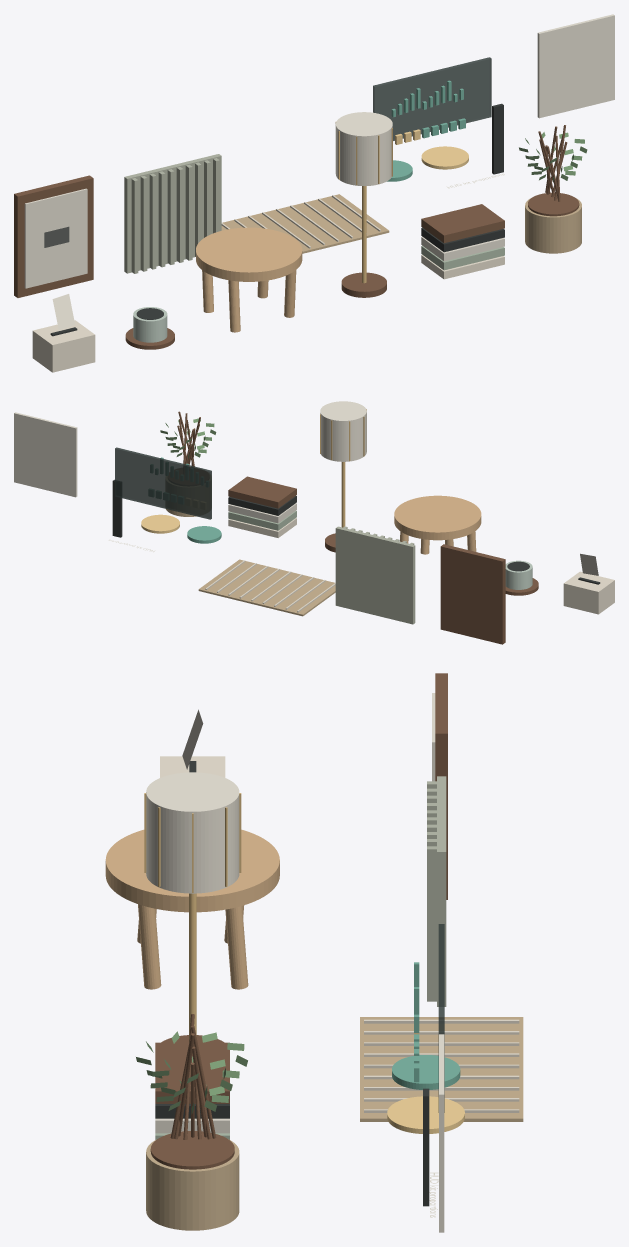
File: CounselCueRoomAssetPack.glb
3 views of the same model, one above another, from view 1: azimuth 30°, elevation 25°; view 2: azimuth 150°, elevation 25°; view 3: azimuth 270°, elevation 25° (orthographic). The views are drawn at different scales.
Visible parts, largest first — view 1: CC_HUDKit_PaperTranscript, CC_HUDKit_GlassPanel, CC_HanjiArtwork_Mat, CC_RoundOakTable_Top, CC_WovenRug_Base, CC_AcousticRibPanel_Back, CC_FloorLamp_HanjiShade, CC_HanjiArtwork_Frame, CC_TissueBox_Linen, CC_BasketPlant_WovenPot, CC_BookStack_Book_05, CC_BasketPlant_Soil (+22 smaller); view 2: CC_AcousticRibPanel_Back, CC_HanjiArtwork_Frame, CC_HUDKit_GlassPanel, CC_HUDKit_PaperTranscript, CC_WovenRug_Base, CC_RoundOakTable_Top, CC_FloorLamp_HanjiShade, CC_TissueBox_Linen, CC_BookStack_Book_05, CC_HUDKit_TutorialRing, CC_CeladonTeaCup_Bowl, CC_BookStack_Book_02 (+5 smaller); view 3: CC_FloorLamp_HanjiShade, CC_WovenRug_Base, CC_RoundOakTable_Top, CC_BasketPlant_WovenPot, CC_BookStack_Book_05, CC_BasketPlant_Soil, CC_HUDKit_TutorialRing, CC_AcousticRibPanel_Back, CC_HUDKit_MicButton, CC_HanjiArtwork_Frame, CC_AcousticRibPanel_Rib.009, CC_RoundOakTable_Leg.001 (+6 smaller).
Boxes of the visible parts, x1=… form: CC_HUDKit_PaperTranscript: x1=537, y1=14, x2=614, y2=118; CC_HUDKit_GlassPanel: x1=373, y1=57, x2=491, y2=140; CC_HanjiArtwork_Mat: x1=24, y1=188, x2=87, y2=288; CC_RoundOakTable_Top: x1=196, y1=227, x2=302, y2=281; CC_WovenRug_Base: x1=221, y1=194, x2=389, y2=253; CC_AcousticRibPanel_Back: x1=124, y1=154, x2=221, y2=273; CC_FloorLamp_HanjiShade: x1=335, y1=112, x2=392, y2=186; CC_HanjiArtwork_Frame: x1=14, y1=175, x2=93, y2=297; CC_TissueBox_Linen: x1=32, y1=320, x2=95, y2=372; CC_BasketPlant_WovenPot: x1=525, y1=198, x2=581, y2=253; CC_BookStack_Book_05: x1=421, y1=204, x2=504, y2=243; CC_BasketPlant_Soil: x1=528, y1=192, x2=579, y2=216; CC_AcousticRibPanel_Back: x1=335, y1=526, x2=415, y2=624; CC_HanjiArtwork_Frame: x1=440, y1=544, x2=505, y2=644; CC_HUDKit_GlassPanel: x1=115, y1=447, x2=211, y2=519; CC_HUDKit_PaperTranscript: x1=14, y1=412, x2=77, y2=497; CC_WovenRug_Base: x1=198, y1=559, x2=335, y2=616; CC_RoundOakTable_Top: x1=394, y1=495, x2=481, y2=540; CC_FloorLamp_HanjiShade: x1=320, y1=401, x2=366, y2=461; CC_TissueBox_Linen: x1=563, y1=571, x2=614, y2=614; CC_BookStack_Book_05: x1=228, y1=476, x2=296, y2=508; CC_HUDKit_TutorialRing: x1=141, y1=514, x2=179, y2=533; CC_CeladonTeaCup_Bowl: x1=505, y1=560, x2=532, y2=589; CC_BookStack_Book_02: x1=228, y1=510, x2=296, y2=530; CC_FloorLamp_HanjiShade: x1=146, y1=772, x2=239, y2=893; CC_WovenRug_Base: x1=360, y1=1017, x2=523, y2=1121; CC_RoundOakTable_Top: x1=105, y1=829, x2=279, y2=912; CC_BasketPlant_WovenPot: x1=146, y1=1139, x2=239, y2=1230; CC_BookStack_Book_05: x1=155, y1=1042, x2=229, y2=1103; CC_BasketPlant_Soil: x1=150, y1=1131, x2=234, y2=1169; CC_HUDKit_TutorialRing: x1=387, y1=1096, x2=464, y2=1133; CC_AcousticRibPanel_Back: x1=437, y1=776, x2=446, y2=1006; CC_HUDKit_MicButton: x1=392, y1=1055, x2=460, y2=1089; CC_HanjiArtwork_Frame: x1=435, y1=673, x2=447, y2=899; CC_AcousticRibPanel_Rib.009: x1=427, y1=846, x2=436, y2=1001; CC_RoundOakTable_Leg.001: x1=138, y1=904, x2=161, y2=989.
Size of the model in its own units: 7.87 by 1.91 by 2.69.
